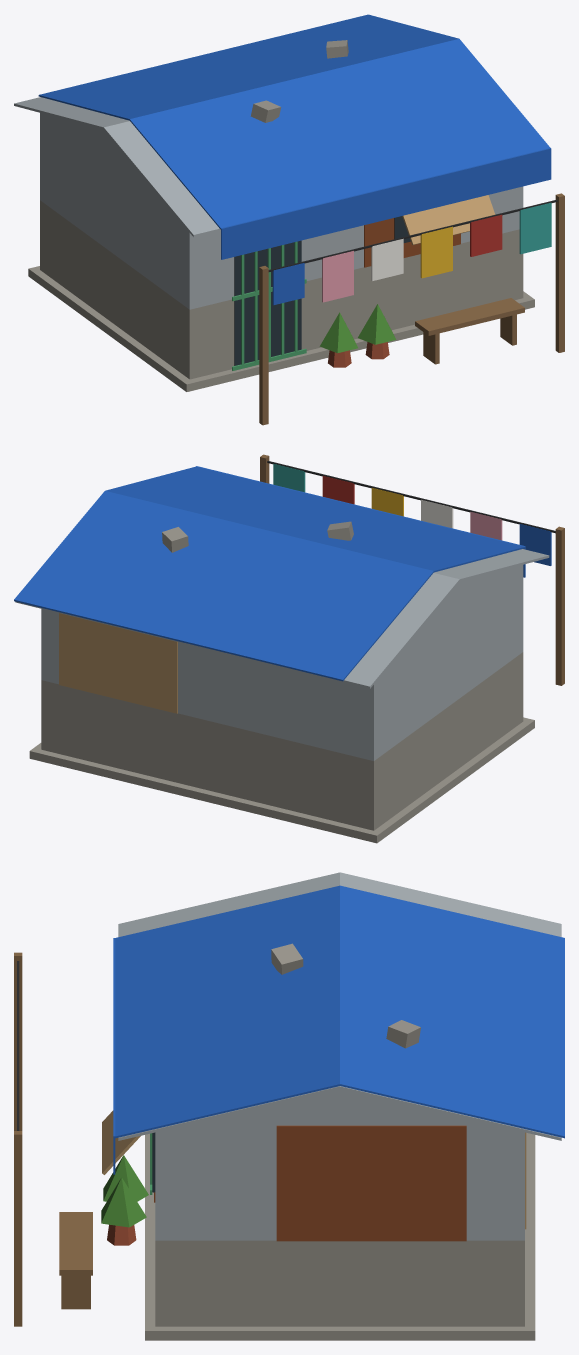
The model's file is BAY_I_TarpShack_D.glb.
3 renders of one model, top to bottom at view 1: azimuth 30°, elevation 25°; view 2: azimuth 150°, elevation 25°; view 3: azimuth 270°, elevation 25°, orthographic. The views are drawn at different scales.
Parts seen in each view (by area): view 1: BAY_I_TarpShack_D; view 2: BAY_I_TarpShack_D; view 3: BAY_I_TarpShack_D.
Boxes of the visible parts, x1=… form: BAY_I_TarpShack_D: x1=14, y1=14, x2=564, y2=425; BAY_I_TarpShack_D: x1=14, y1=454, x2=564, y2=843; BAY_I_TarpShack_D: x1=14, y1=872, x2=564, y2=1340.
Size of the model in its own units: 4.8 by 2.76 by 5.22.
Materials: 1 (1 with a texture image).
